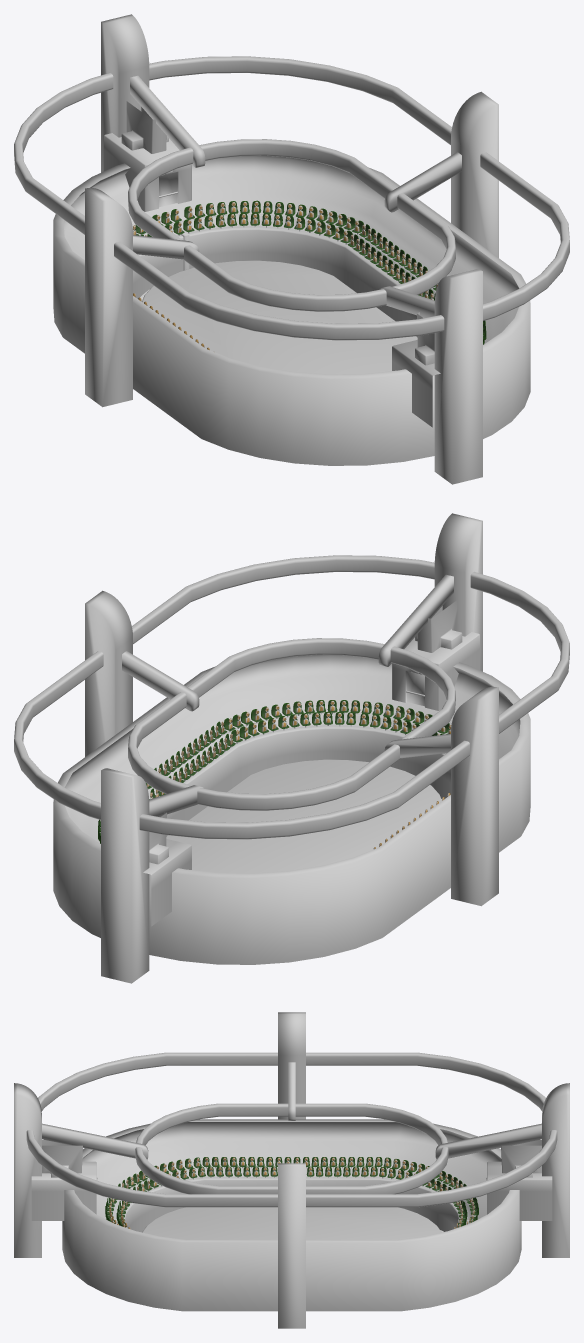
Rendered from SM_STADIUM_FINAL.fbx.
The picture shows the model from 3 angles, top to bottom: view 1: azimuth 30°, elevation 25°; view 2: azimuth 150°, elevation 25°; view 3: azimuth 270°, elevation 25°; orthographic projection. The views are drawn at different scales.
Parts seen in each view (by area): view 1: SM_Stadium.001; view 2: SM_Stadium.001; view 3: SM_Stadium.001.
Part boxes in pixels (x1,y1,x2,y2): SM_Stadium.001: (14,14,569,484); SM_Stadium.001: (14,513,569,983); SM_Stadium.001: (14,1012,569,1328).
Size of the model in its own units: 5335 by 2912 by 8184.
